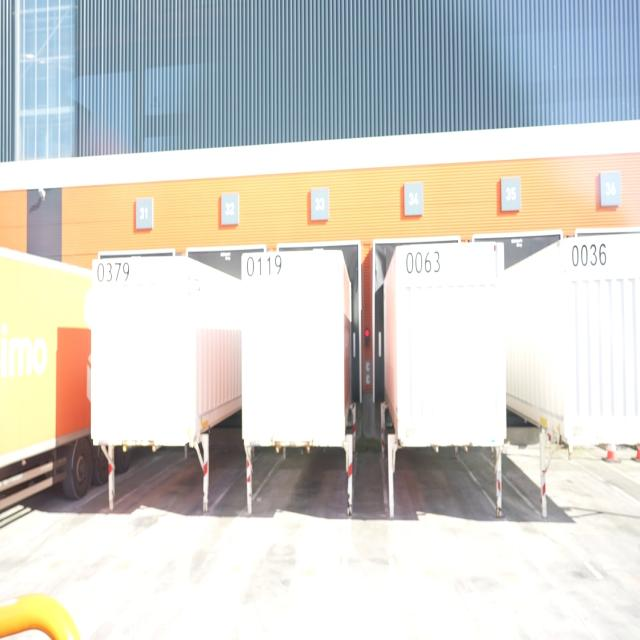Code: (568, 240, 608, 271), (402, 249, 444, 278), (243, 253, 286, 279), (95, 260, 131, 284)
